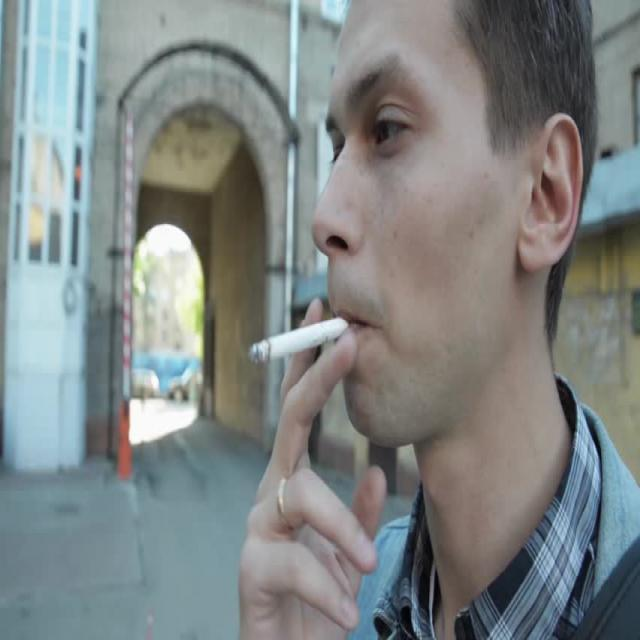smoking: (248, 306, 357, 369)
